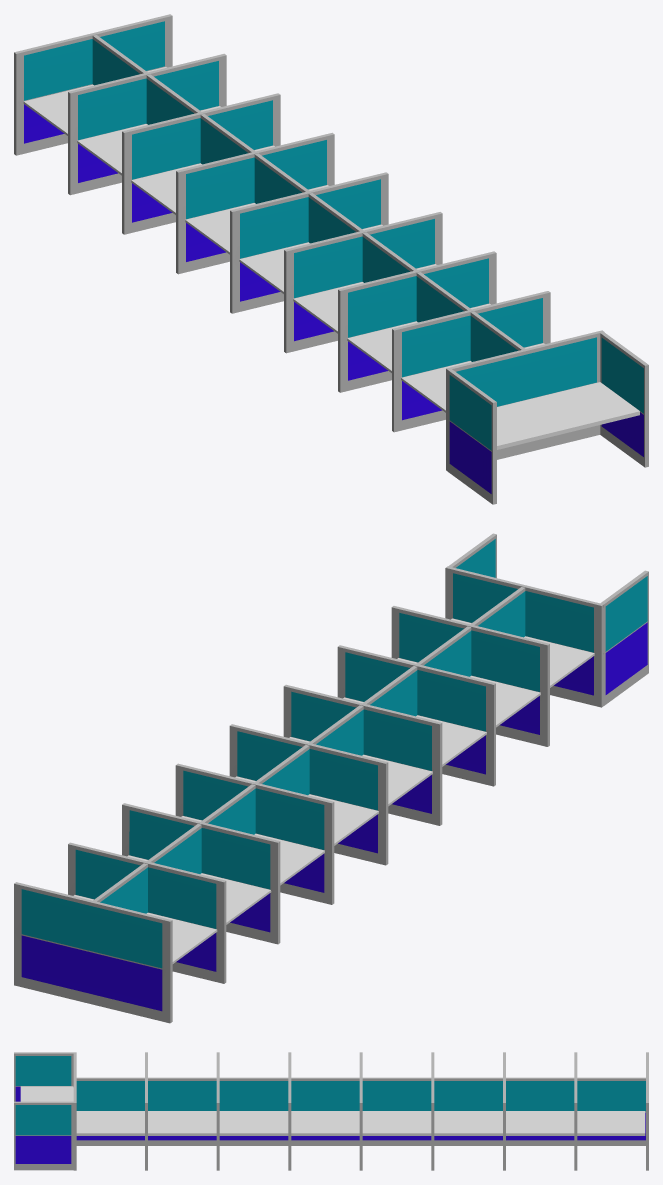
The model's file is Cubiculo COPIA.fbx.
3 renders of one model, top to bottom at view 1: azimuth 30°, elevation 25°; view 2: azimuth 150°, elevation 25°; view 3: azimuth 270°, elevation 25°, orthographic. The views are drawn at different scales.
Parts seen in each view (by area): view 1: CUBICULO, Mesa.001; view 2: CUBICULO, Mesa.001; view 3: CUBICULO, Mesa.001.
Boxes of the visible parts, bbox=[...] form: CUBICULO: bbox=[14, 14, 648, 504]; Mesa.001: bbox=[24, 67, 639, 449]; CUBICULO: bbox=[14, 533, 648, 1023]; Mesa.001: bbox=[73, 618, 594, 961]; CUBICULO: bbox=[14, 1052, 648, 1170]; Mesa.001: bbox=[20, 1086, 645, 1133].
Bounding box in the file's own units: 799 × 496 × 4235.
